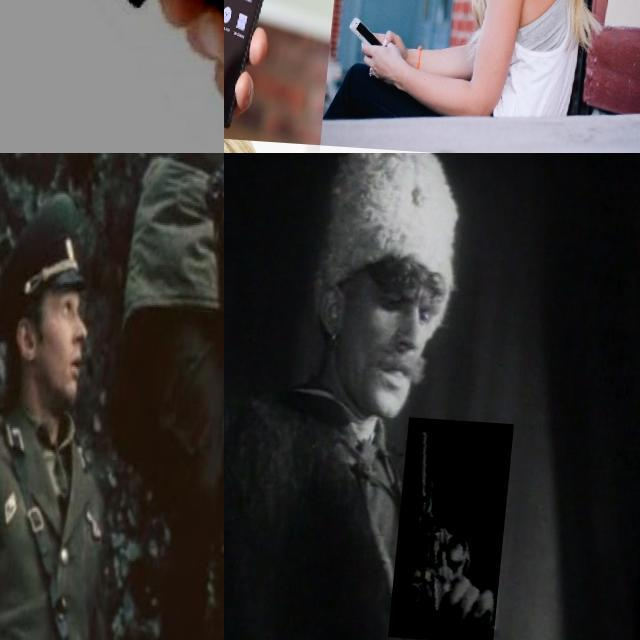-: (0, 0, 224, 153)
gun-knife-thesis - v11 Yolov5 augmented: (399, 412, 520, 637), (0, 301, 40, 453)
